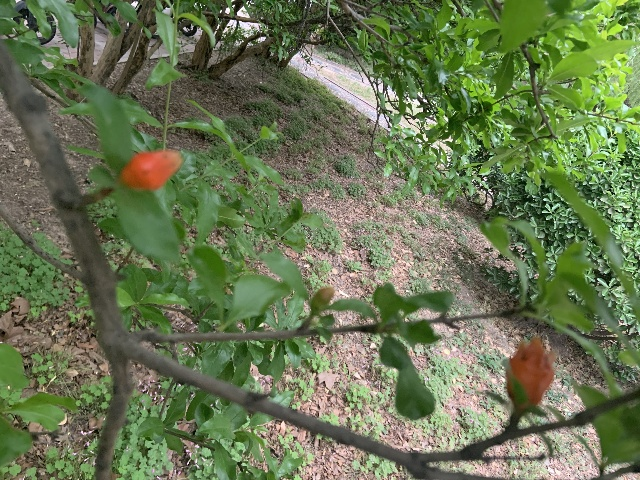bud: (118, 149, 182, 191)
flower: (507, 336, 557, 409)
